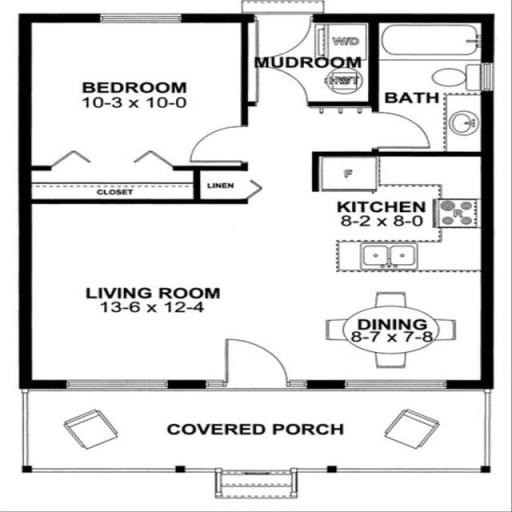bathroom: (250, 14, 472, 154)
bedroom: (33, 19, 245, 186)
hall: (33, 190, 305, 366)
kitchen: (311, 156, 480, 388)
porch: (29, 386, 487, 470)
